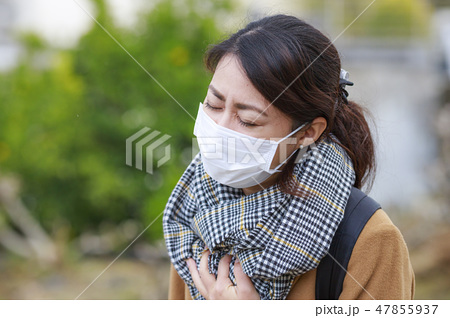mask: (193, 108, 275, 196)
